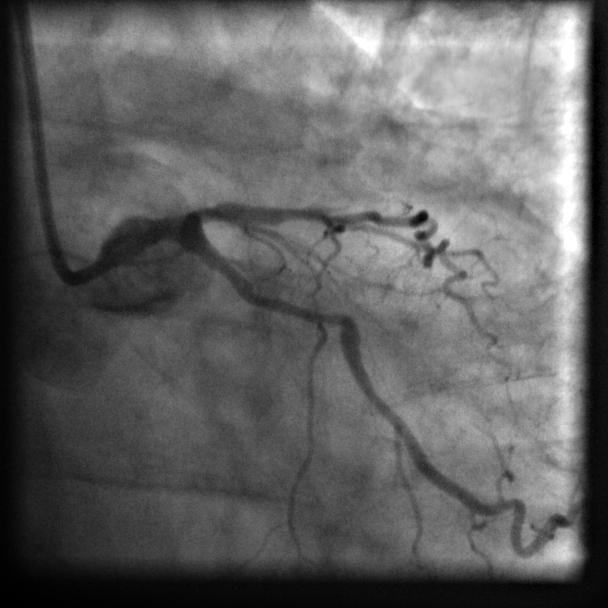Stenosis: (257, 283, 343, 333)
